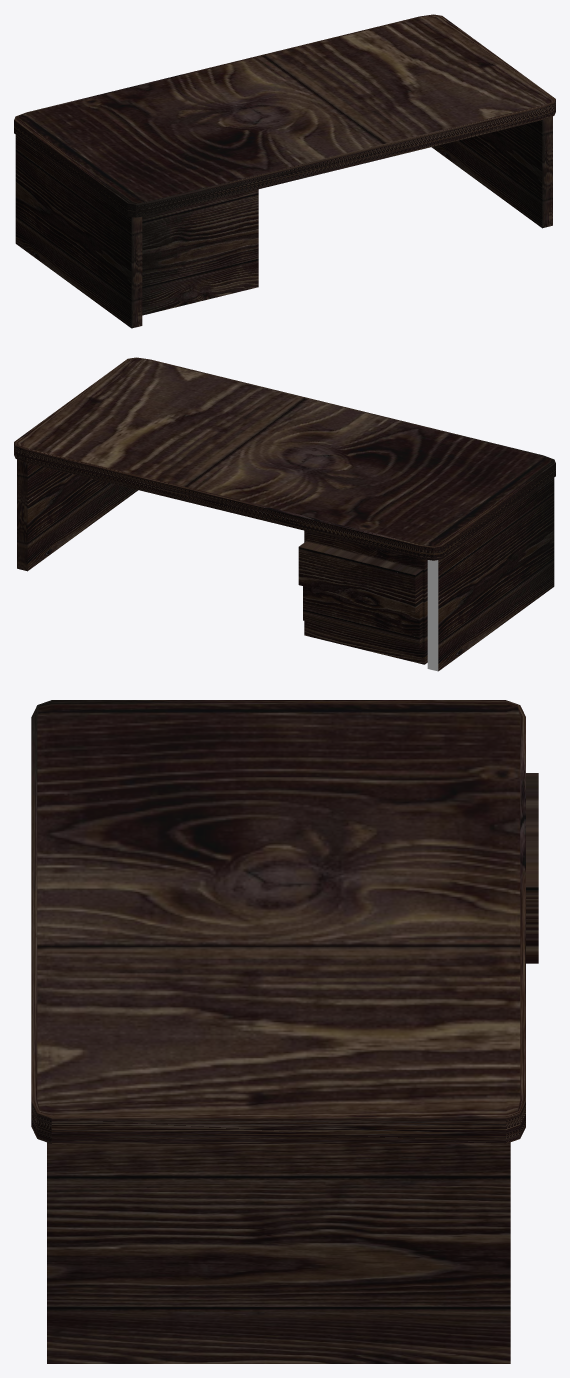
Rendered from office_desk.glb.
3 views of the same model, one above another, from view 1: azimuth 30°, elevation 25°; view 2: azimuth 150°, elevation 25°; view 3: azimuth 270°, elevation 25° (orthographic). The views are drawn at different scales.
Visible parts, largest first — view 1: Cube.004, Cube.005, Cube.001; view 2: Cube.004, Cube.005, Cube.001, Cube.003; view 3: Cube.004, Cube.005, Cube.001.
Boxes of the visible parts, x1=… form: Cube.004: x1=14, y1=14, x2=555, y2=217; Cube.005: x1=15, y1=116, x2=552, y2=328; Cube.001: x1=142, y1=189, x2=258, y2=315; Cube.004: x1=14, y1=357, x2=555, y2=560; Cube.005: x1=17, y1=459, x2=554, y2=671; Cube.001: x1=298, y1=530, x2=427, y2=664; Cube.003: x1=427, y1=560, x2=438, y2=671; Cube.004: x1=31, y1=700, x2=525, y2=1143; Cube.005: x1=47, y1=1142, x2=510, y2=1363; Cube.001: x1=526, y1=773, x2=538, y2=963.
Size of the model in its own units: 1.6 by 0.4476 by 0.8201.
4 materials, 3 textured.
